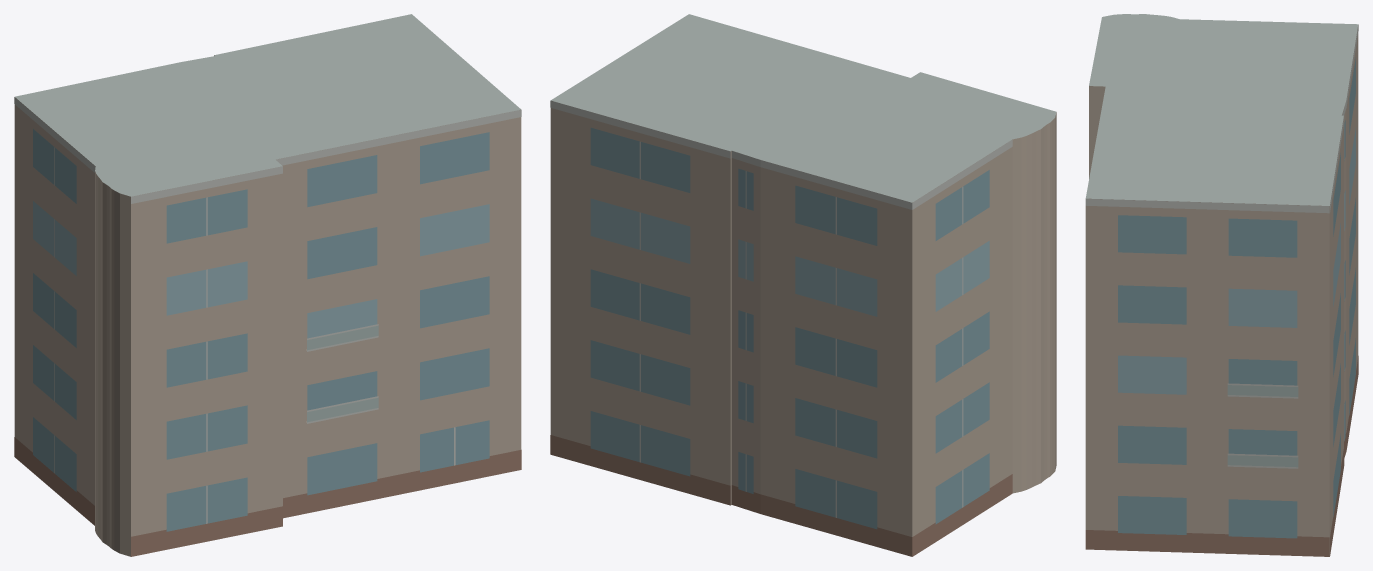
Rendered from survey-upis-32469277.glb.
The picture shows the model from 3 angles, left to right: view 1: azimuth 30°, elevation 25°; view 2: azimuth 150°, elevation 25°; view 3: azimuth 270°, elevation 25°; orthographic projection. The views are drawn at different scales.
Parts seen in each view (by area): view 1: survey-upis-32469277.tmp; view 2: survey-upis-32469277.tmp; view 3: survey-upis-32469277.tmp.
Part boxes in pixels (bbox=[...]): survey-upis-32469277.tmp: bbox=[14, 14, 521, 556]; survey-upis-32469277.tmp: bbox=[550, 14, 1056, 556]; survey-upis-32469277.tmp: bbox=[1085, 14, 1358, 556].
Size of the model in its own units: 13.98 by 11.9 by 8.39.
